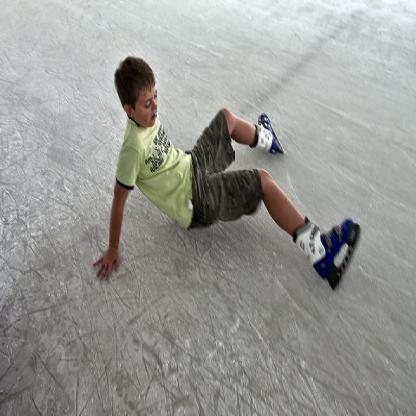Fall_Down: (90, 54, 356, 286)
